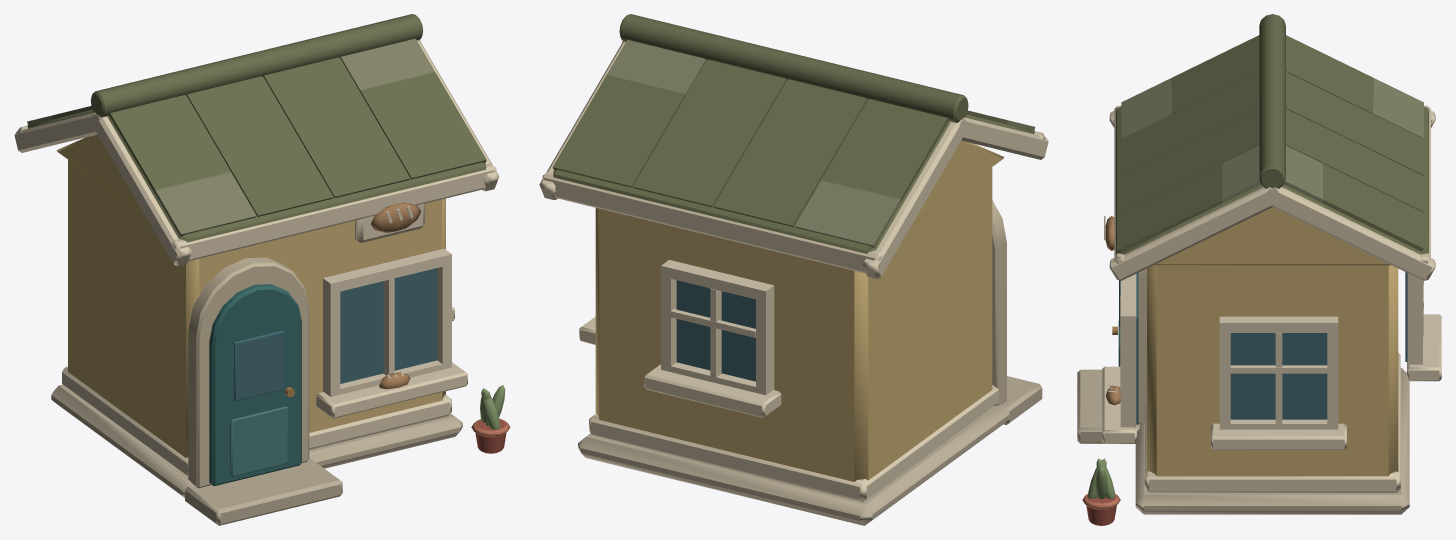
Rendered from bakery_level_1.glb.
3 views of the same model, side by side, from view 1: azimuth 30°, elevation 25°; view 2: azimuth 150°, elevation 25°; view 3: azimuth 270°, elevation 25° (orthographic). The views are drawn at different scales.
Parts seen in each view (by area): view 1: bakery_level_1_runtime; view 2: bakery_level_1_runtime; view 3: bakery_level_1_runtime.
Part boxes in pixels (bbox=[...]): bakery_level_1_runtime: bbox=[14, 14, 510, 525]; bakery_level_1_runtime: bbox=[539, 14, 1048, 525]; bakery_level_1_runtime: bbox=[1077, 14, 1441, 525].
Size of the model in its own units: 2.91 by 3.11 by 2.84.
